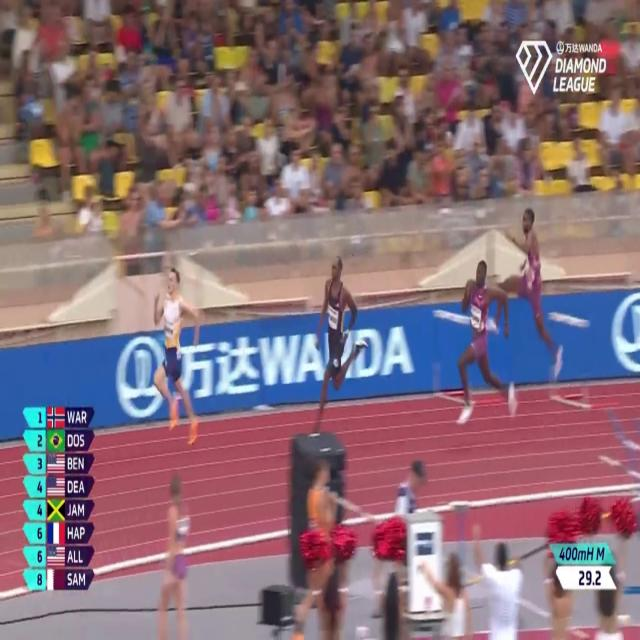athlete: (489, 196, 562, 376), (147, 255, 206, 465), (454, 246, 520, 432), (315, 226, 366, 456)
hurdle: (434, 299, 494, 412), (544, 303, 596, 413)
